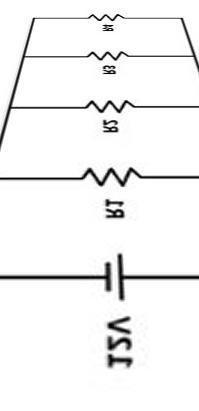resistor: (66, 154, 143, 191), (76, 82, 143, 114), (75, 6, 134, 26), (77, 45, 139, 64)
